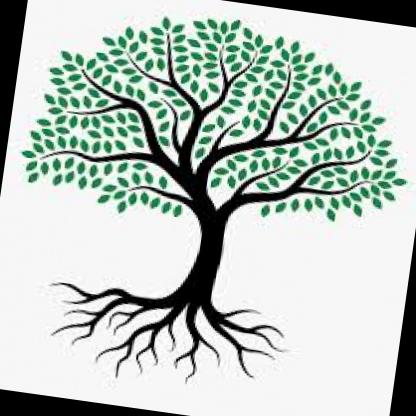root_only: (37, 280, 296, 400)
trunk_reflex: (176, 214, 229, 302)
